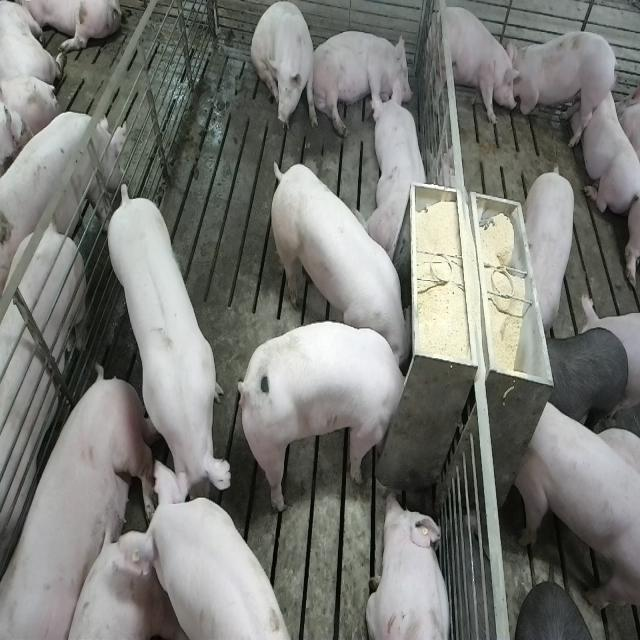Feeding: (244, 320, 416, 516), (266, 159, 412, 365)
Lateral_lying: (4, 367, 157, 640), (308, 30, 414, 138)
Sitting: (251, 3, 318, 138)
Standing: (106, 180, 236, 516), (0, 220, 88, 617), (516, 394, 638, 623), (132, 464, 288, 640), (0, 104, 122, 294), (510, 28, 616, 148), (431, 4, 520, 131), (524, 162, 578, 332), (545, 327, 629, 428)
Sternal_lying: (365, 490, 452, 640), (366, 86, 432, 263), (581, 78, 639, 216)
